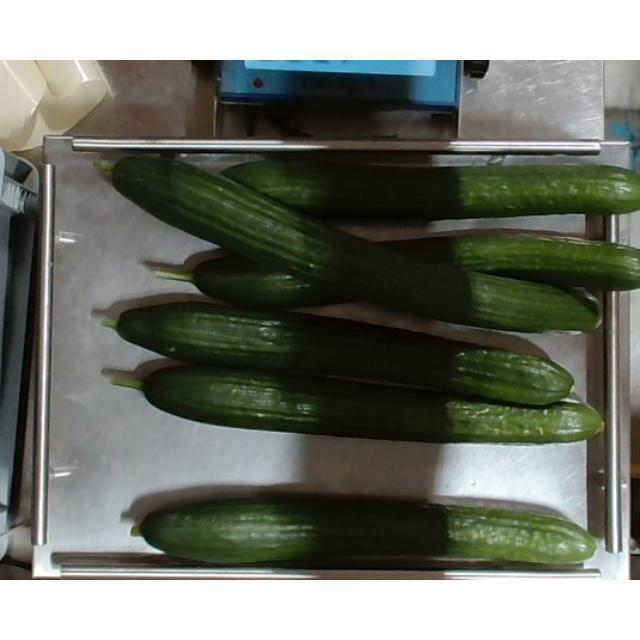cucumber: (86, 149, 640, 335), (98, 300, 578, 412), (102, 364, 608, 444), (162, 224, 640, 306), (126, 494, 602, 570), (226, 158, 640, 218)
